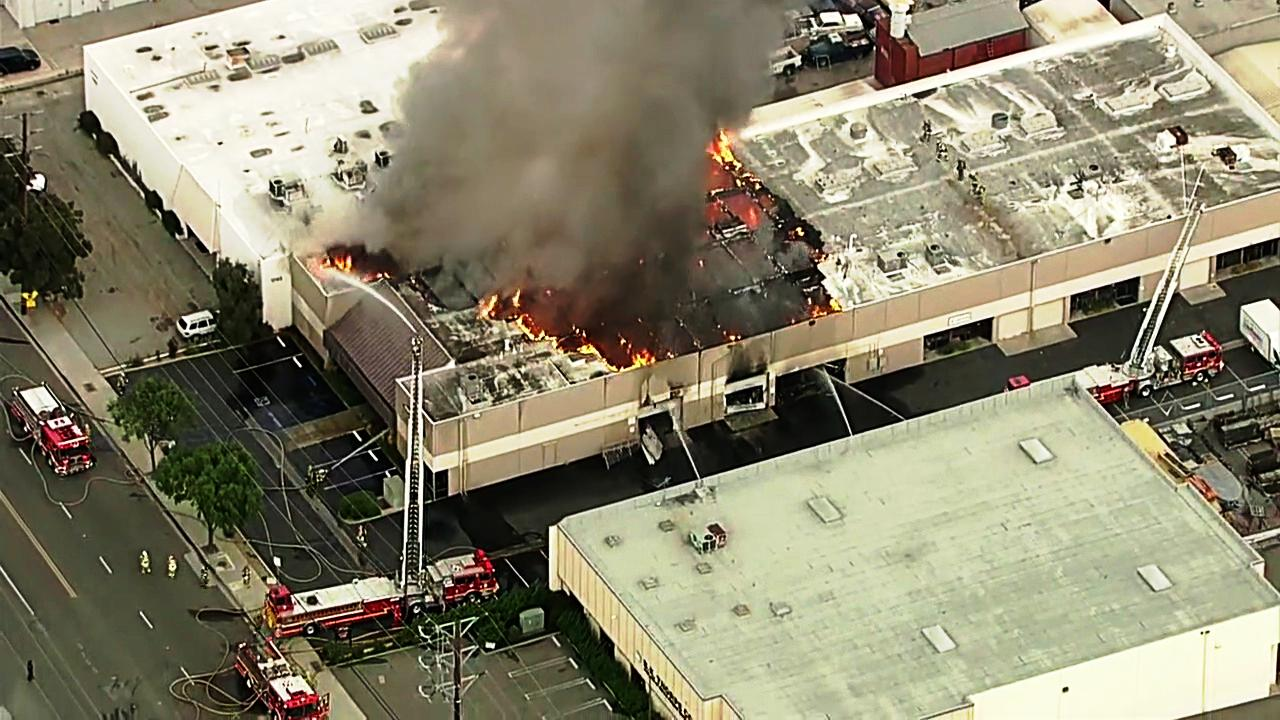smoke: (470, 0, 703, 222)
